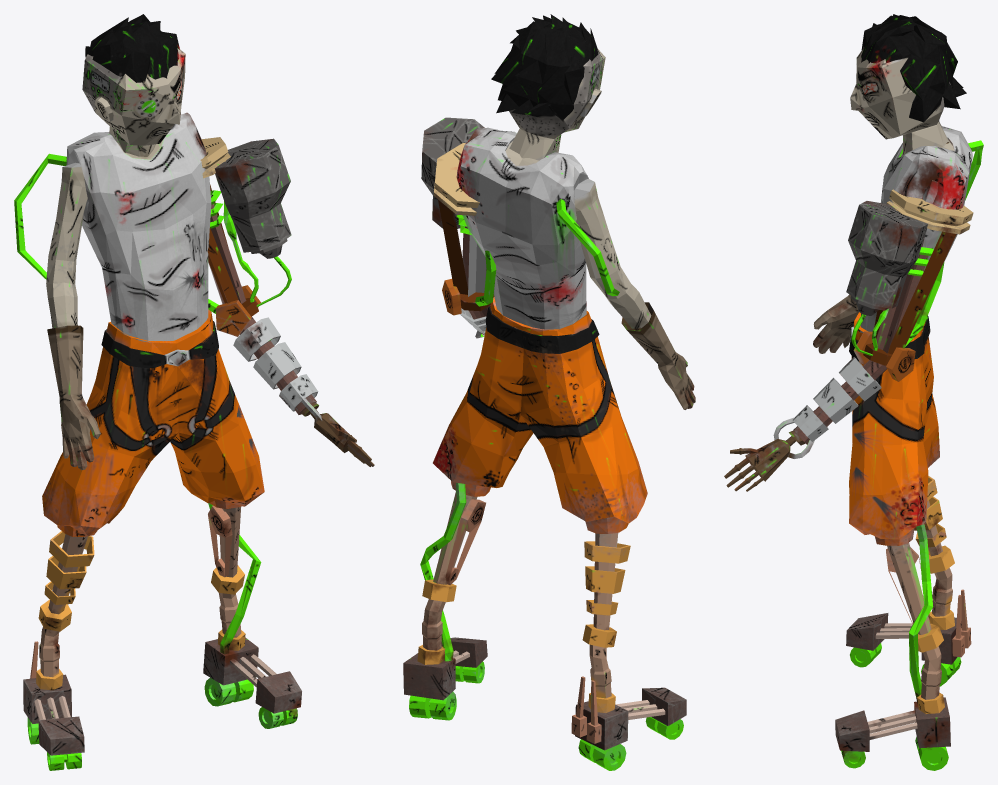
The model's file is CyborgFINALAnimation_000006.obj.
The picture shows the model from 3 angles, left to right: view 1: azimuth 30°, elevation 25°; view 2: azimuth 150°, elevation 25°; view 3: azimuth 270°, elevation 25°; orthographic projection. The views are drawn at different scales.
Parts seen in each view (by area): view 1: CyborgMesh_Cube.002; view 2: CyborgMesh_Cube.002; view 3: CyborgMesh_Cube.002.
Boxes of the visible parts, <box> form: CyborgMesh_Cube.002: <box>14,14,374,770</box>; CyborgMesh_Cube.002: <box>403,14,695,770</box>; CyborgMesh_Cube.002: <box>724,14,983,770</box>.
Size of the model in its own units: 3.61 by 9.62 by 3.26.
